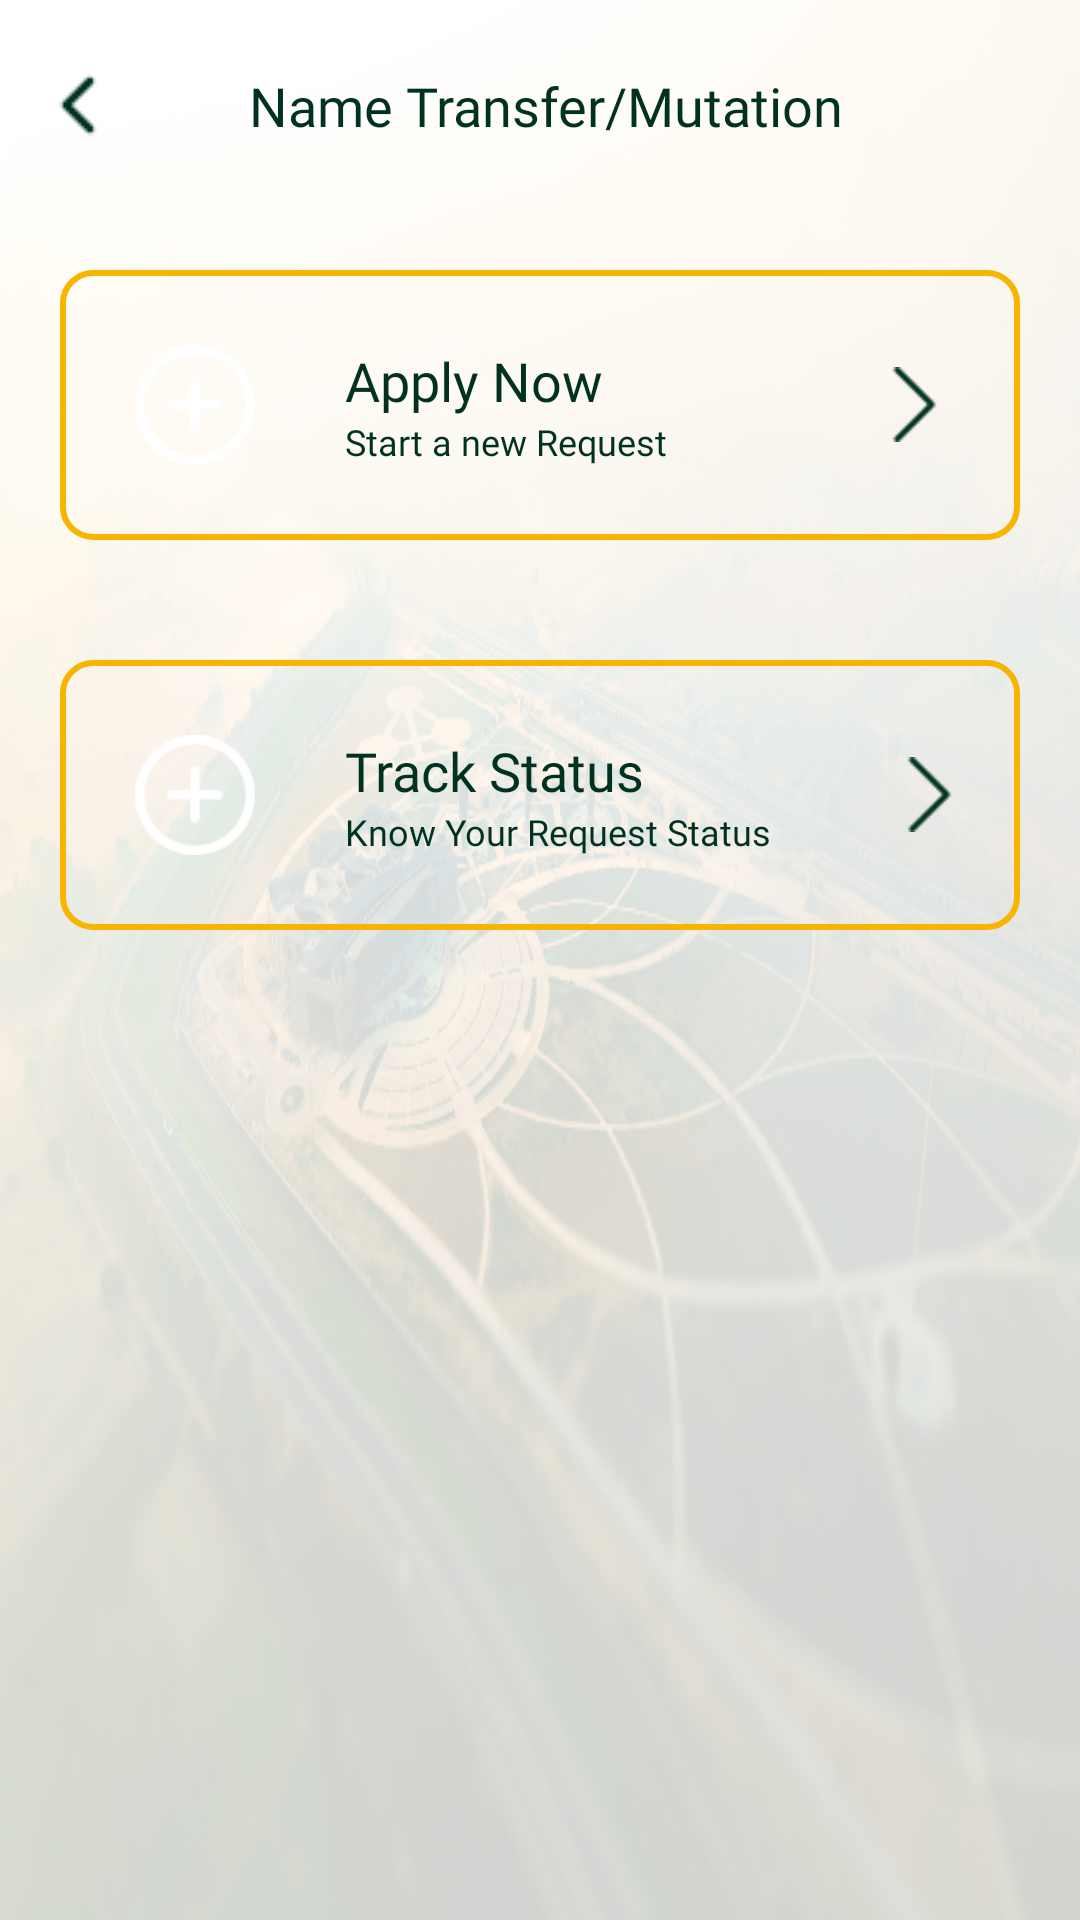

Where to tap for icons on this 1080 × 1920 app screen, as (x=x, y=y):
arrow: (x=914, y=404), (x=929, y=794)
left: (x=78, y=105)
